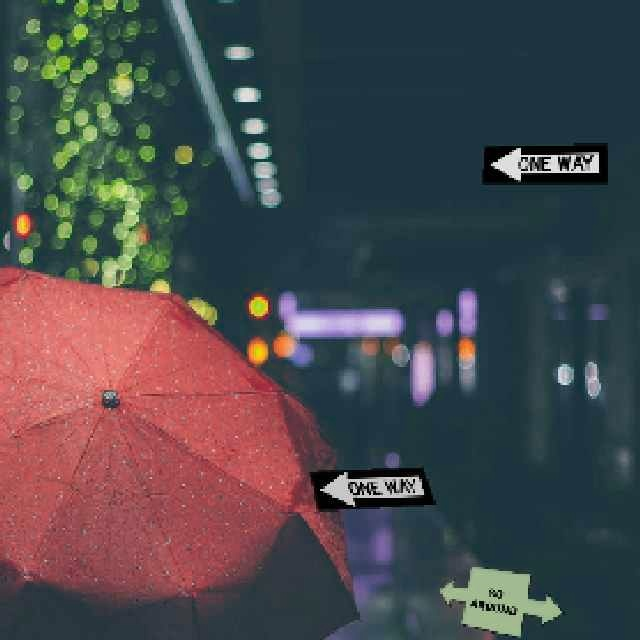GO_AROUND: (436, 564, 563, 637)
ONE_WAY_ left: (307, 465, 434, 509), (480, 141, 607, 182)
